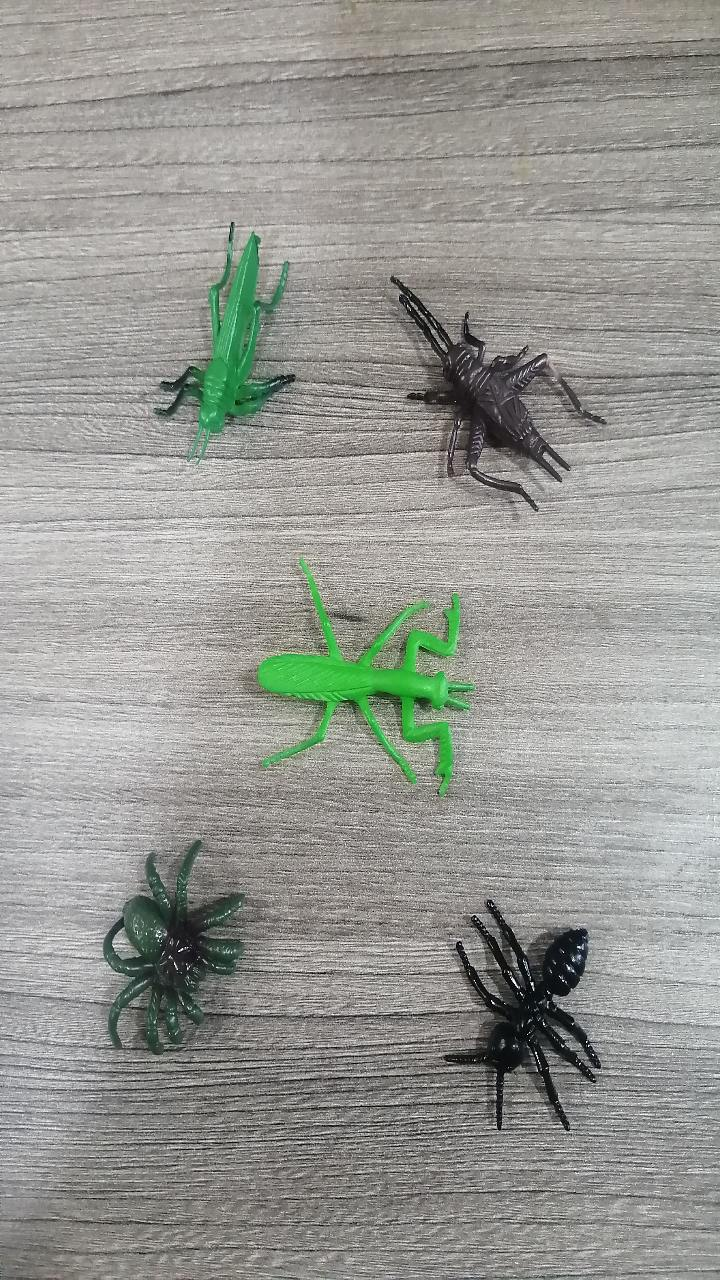intruso: (369, 234, 629, 537), (406, 865, 632, 1171), (226, 532, 477, 805), (71, 808, 269, 1072), (141, 200, 317, 480)
